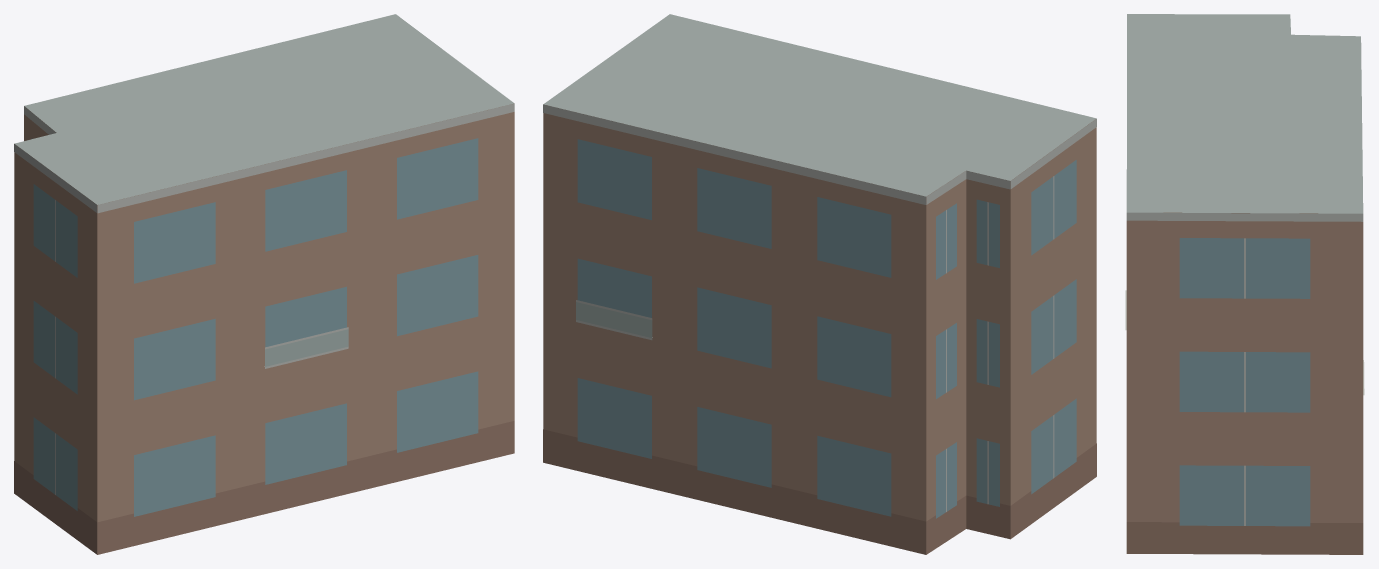
Rendered from survey-upis-32662120.glb.
The picture shows the model from 3 angles, left to right: view 1: azimuth 30°, elevation 25°; view 2: azimuth 150°, elevation 25°; view 3: azimuth 270°, elevation 25°; orthographic projection. The views are drawn at different scales.
Visible parts, largest first — view 1: survey-upis-32662120.tmp; view 2: survey-upis-32662120.tmp; view 3: survey-upis-32662120.tmp.
Boxes of the visible parts, bbox=[...] form: survey-upis-32662120.tmp: bbox=[14, 14, 514, 554]; survey-upis-32662120.tmp: bbox=[543, 14, 1096, 554]; survey-upis-32662120.tmp: bbox=[1125, 14, 1364, 554].
Bounding box in the file's own units: 12.81 × 10.2 × 6.48.
